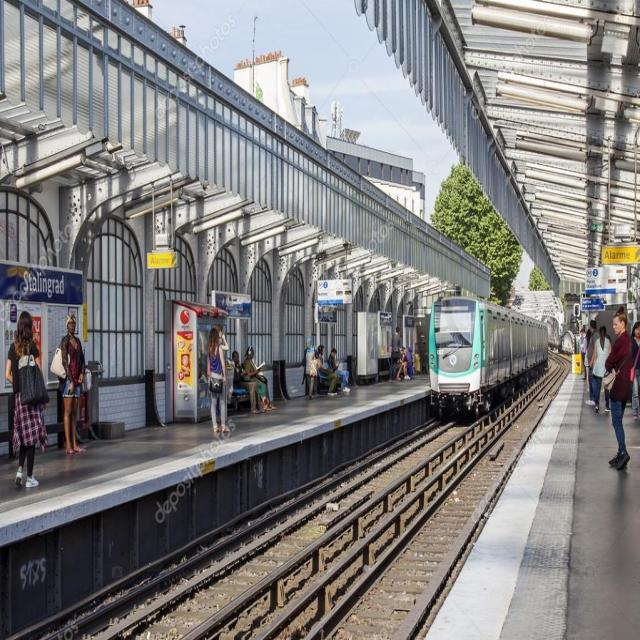body: (3, 307, 51, 489), (49, 311, 87, 455), (602, 301, 634, 470), (204, 326, 232, 434), (243, 344, 278, 412), (231, 349, 261, 415), (592, 324, 612, 415), (584, 318, 601, 406), (299, 336, 320, 402), (316, 343, 341, 397), (627, 318, 639, 422), (327, 347, 351, 393), (392, 326, 404, 382), (582, 328, 592, 394), (399, 346, 412, 381), (580, 328, 588, 381), (215, 324, 229, 352), (405, 345, 414, 382), (394, 360, 404, 382)
